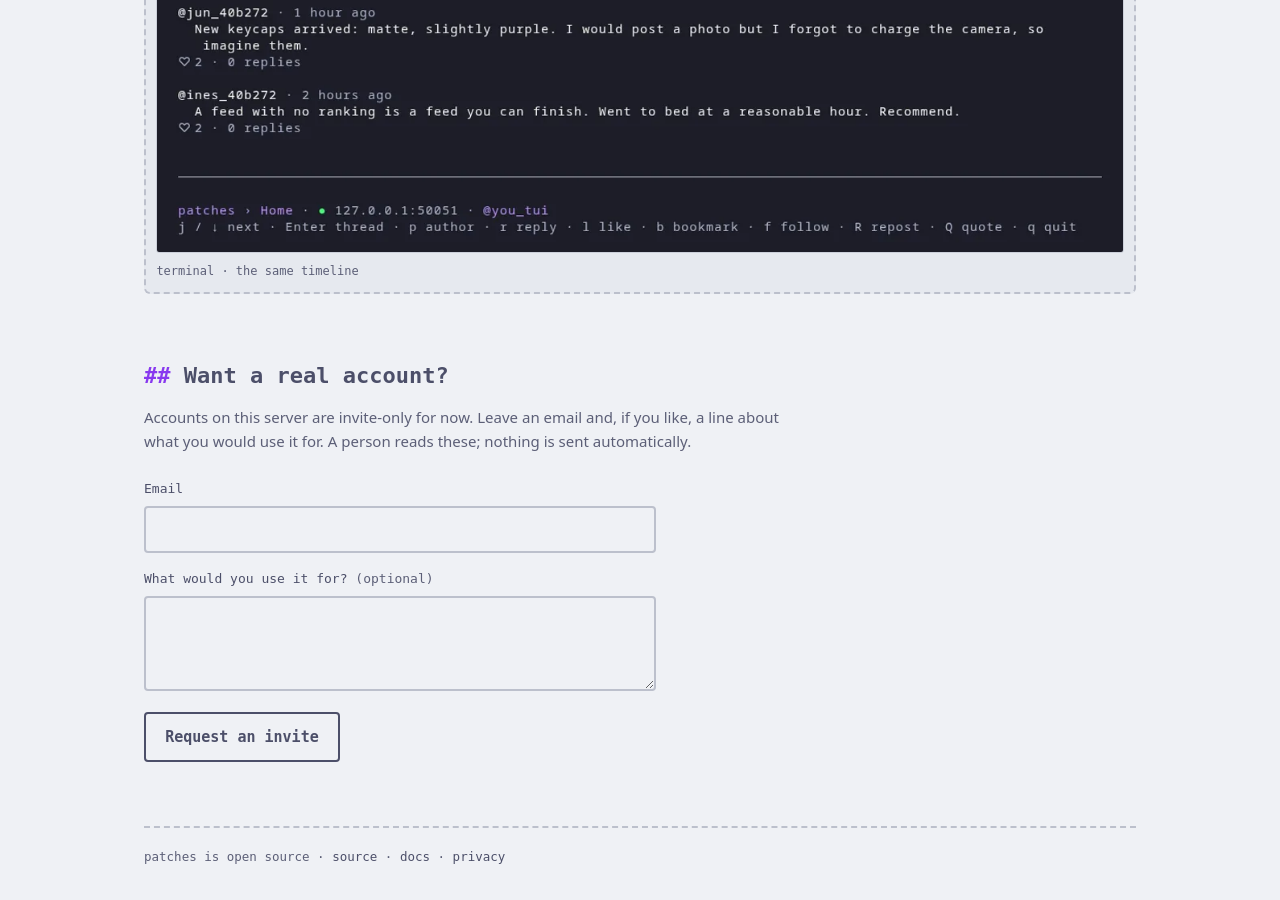
LandingRoute › submits the invite request trimmed and then thanks the visitor
The image size is (1280, 900).
(page scrolled)
Type " me@example.test " into the field labelled "Email" at (400, 529), box [144,506,656,553]
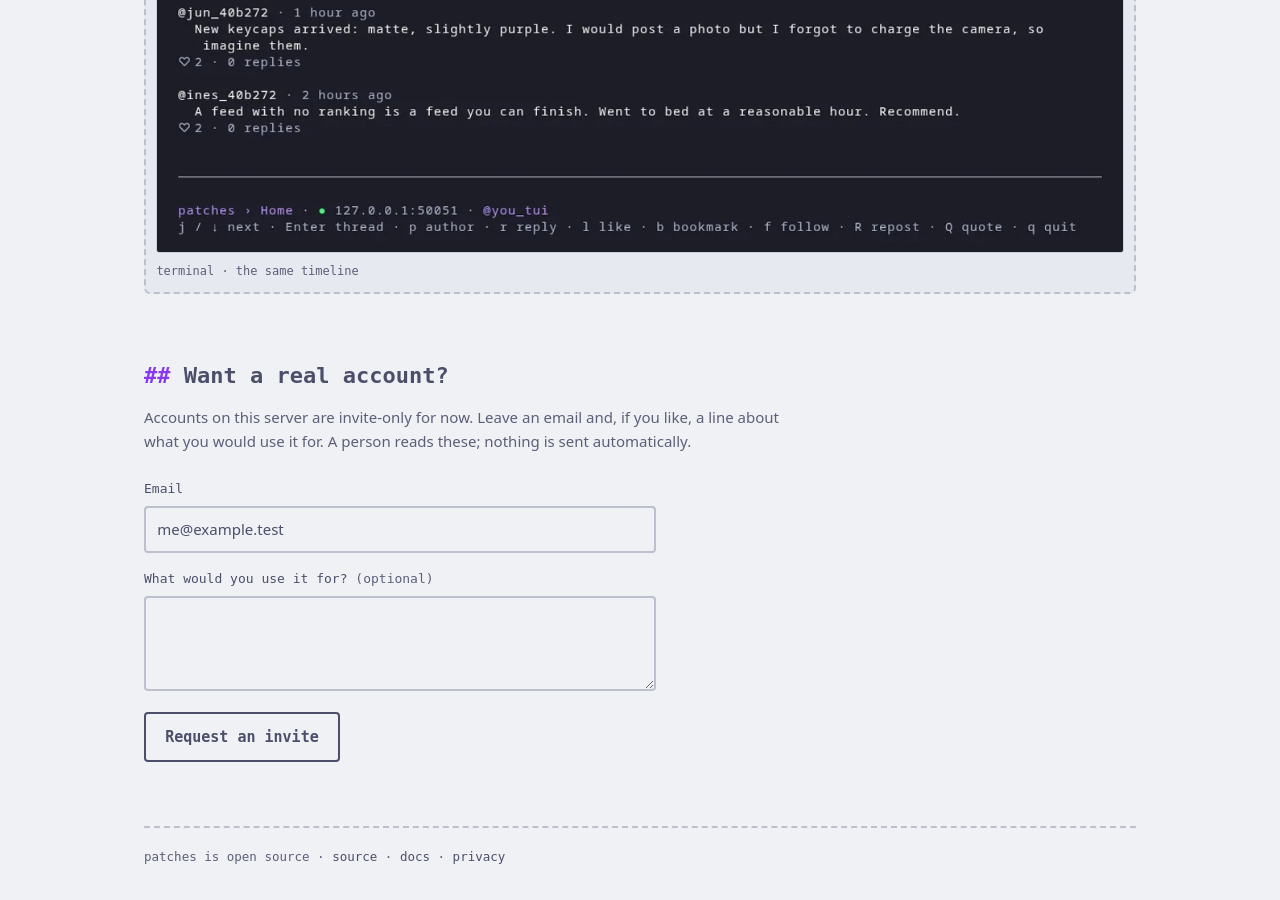
Type " terminal person " into the text box labelled "What would you use it for? (optional)" at (400, 644), box [144,596,656,691]
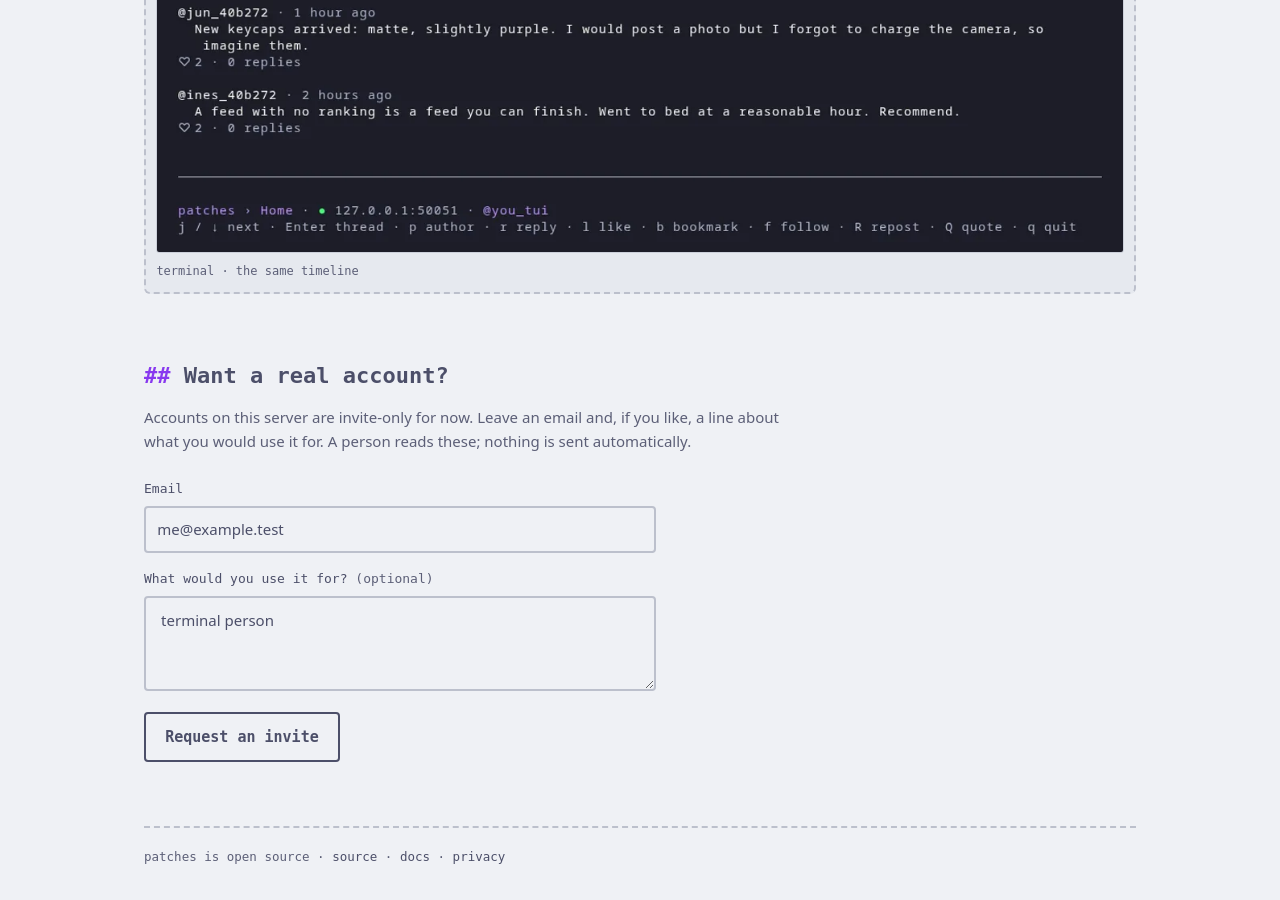
Click the button "Request an invite" at (242, 737), box [144,712,340,762]
(page scrolled)
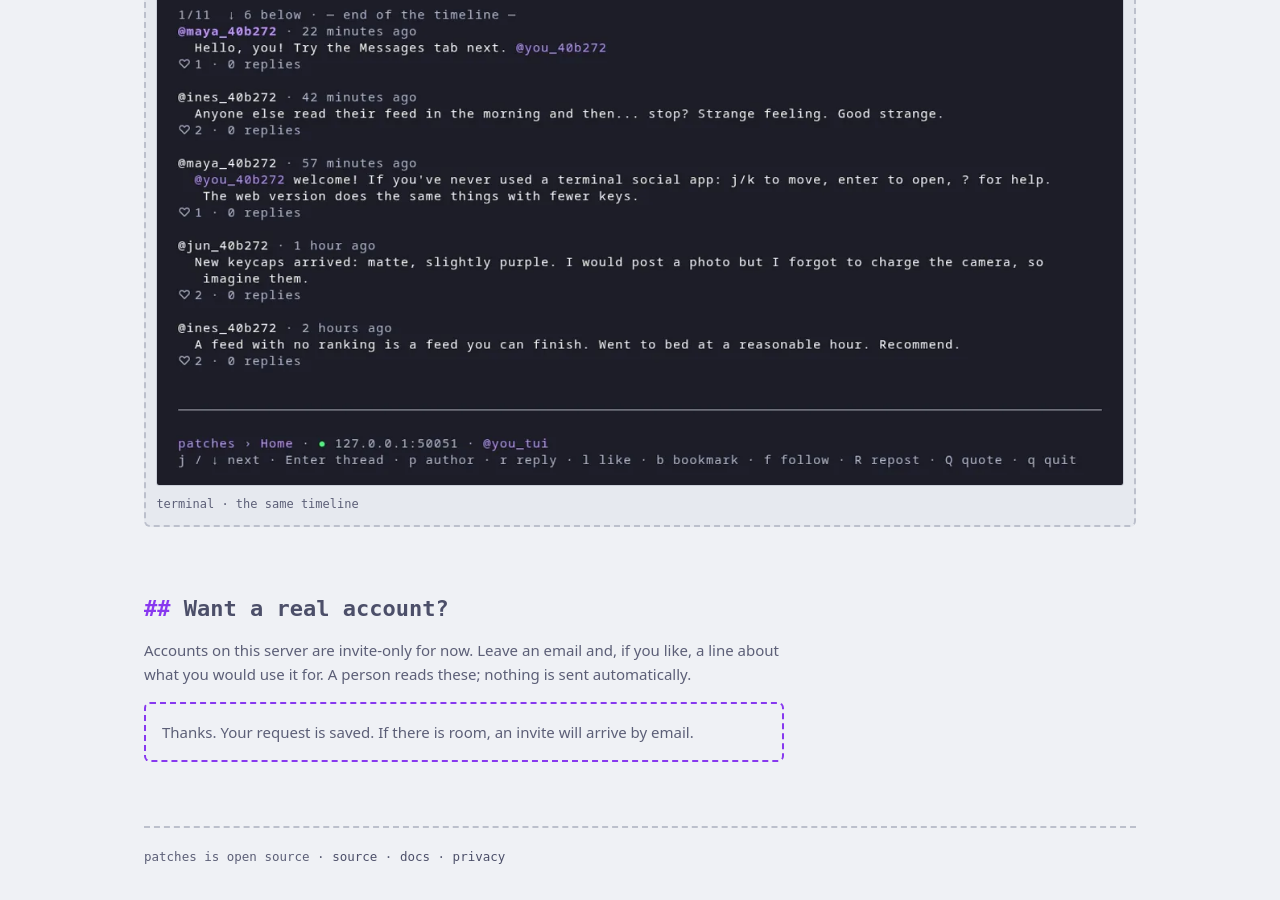
Now the text "Your request is saved" is shown, box [162,722,694,742]
